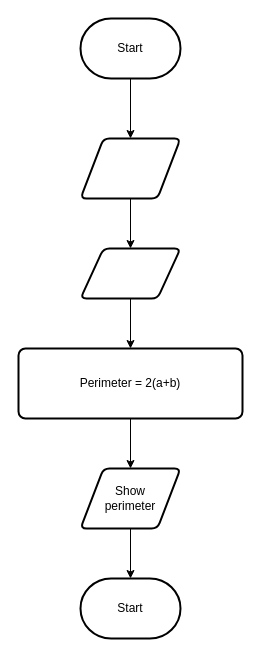
Image size: 260x656. Some labels were removed from this diagram. The shapes that lost their labels are listed below. From the top down, each one's centre as x and y in pixels, then its label:
At point 130,168: "Get side a".
At point 130,273: "Get side b".
